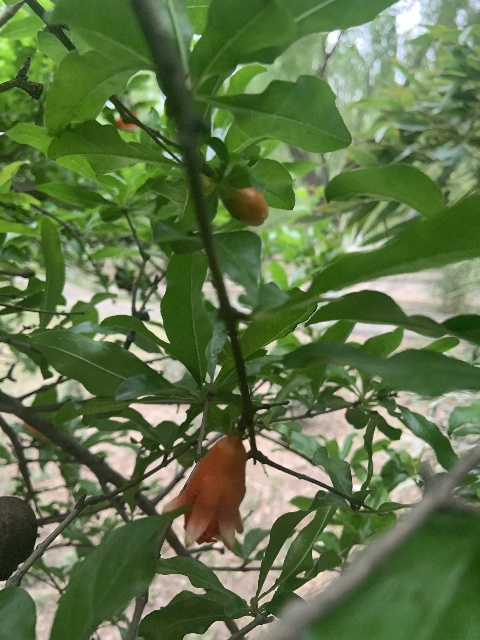bud: (221, 187, 269, 226)
flower: (161, 433, 247, 550)
